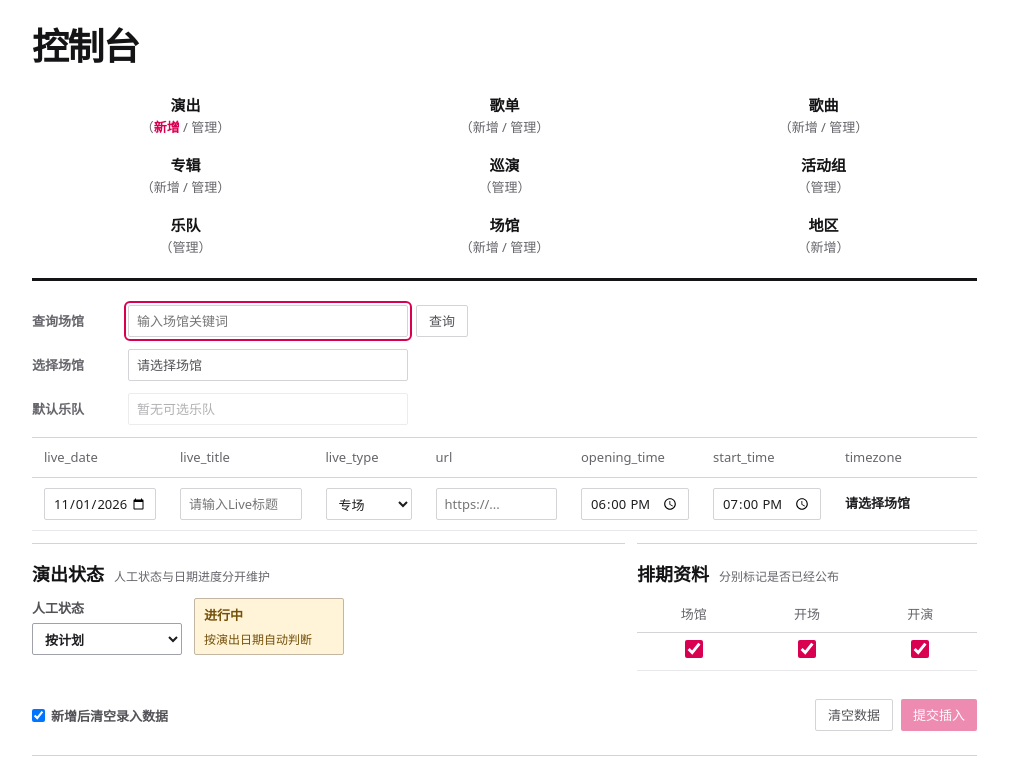
Test: ConsoleInsertPanel › 控制台导航支持按资料类型切换
expect the element named "内容管理" is shown: met, box [141,95,868,256]
expect the tab with aria-label "歌曲管理" reads "管理": met, box [829,118,855,136]
Step 1. Click the tab with aria-label "场馆管理" → click(523, 247), box [510,238,536,256]
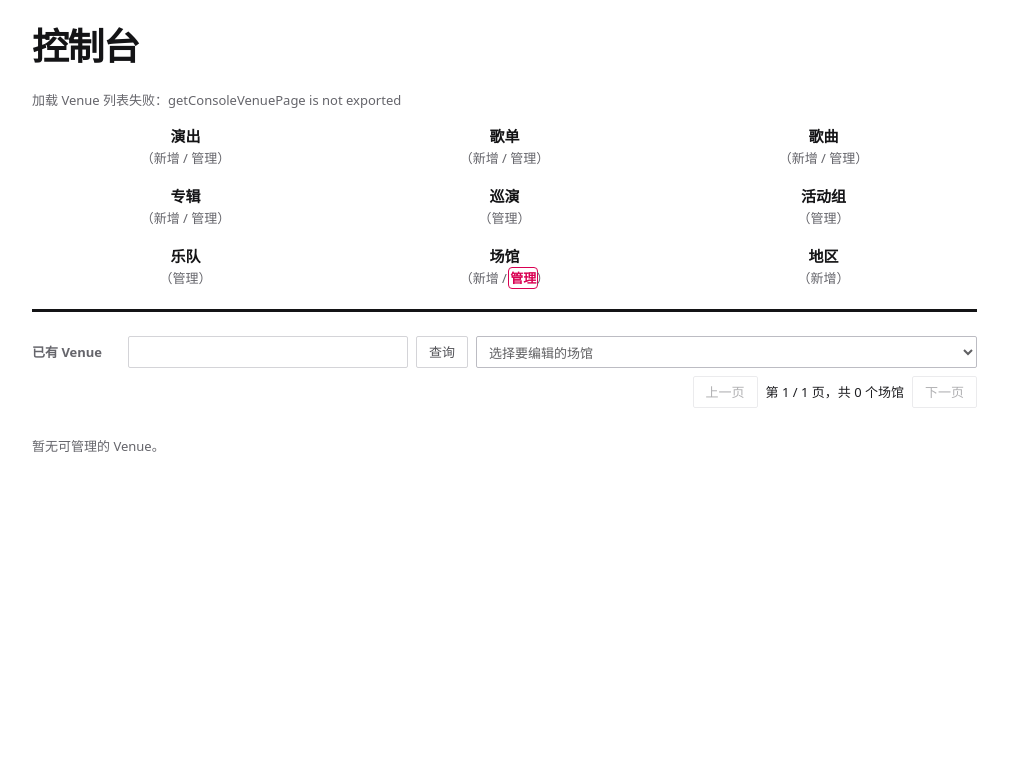
expect the tab with aria-label "场馆管理" is selected: met, box [510,269,536,287]
Step 2. Click the tab with aria-label "新增地区" → click(824, 278), box [810,269,836,287]
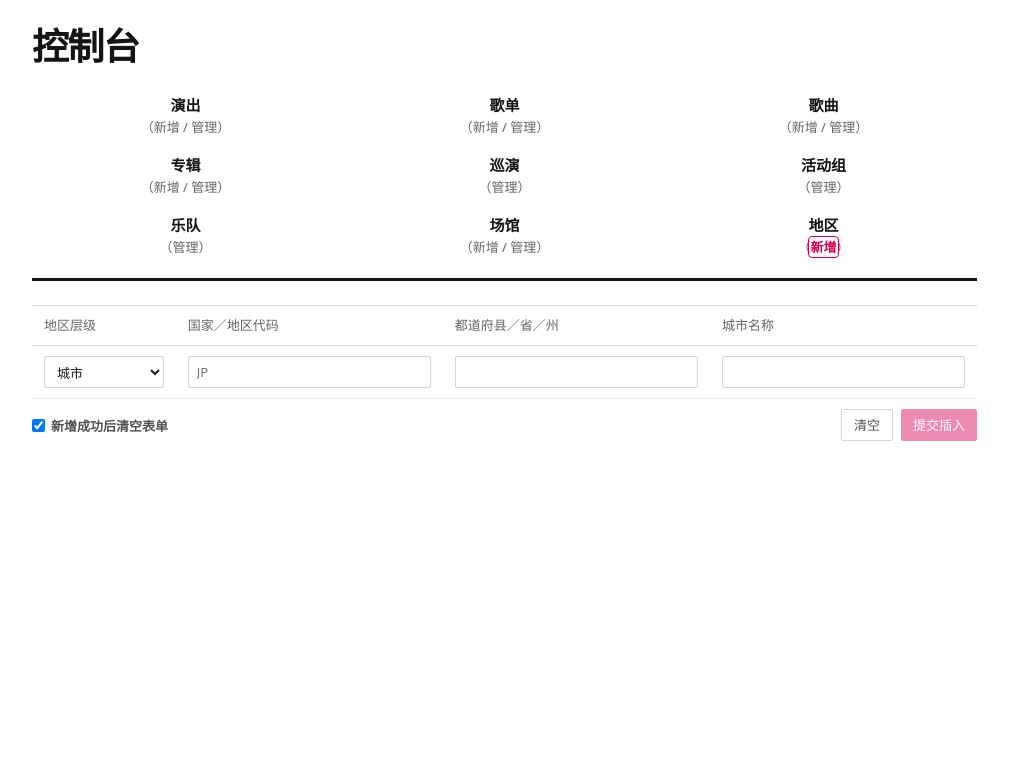
expect the tab with aria-label "新增地区" reads "新增": met, box [810,238,836,256]
expect the element named "新增地区" is shown: met, box [32,305,977,441]
